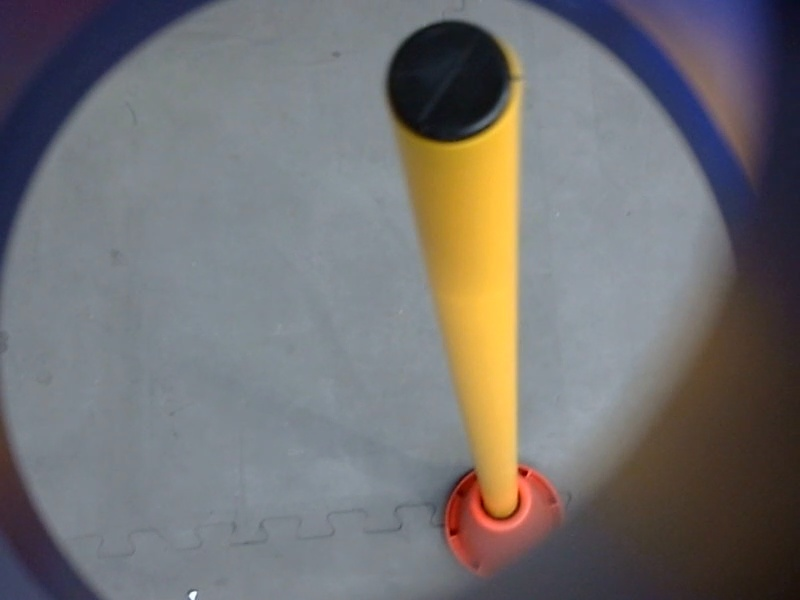tip: (374, 10, 529, 155)
